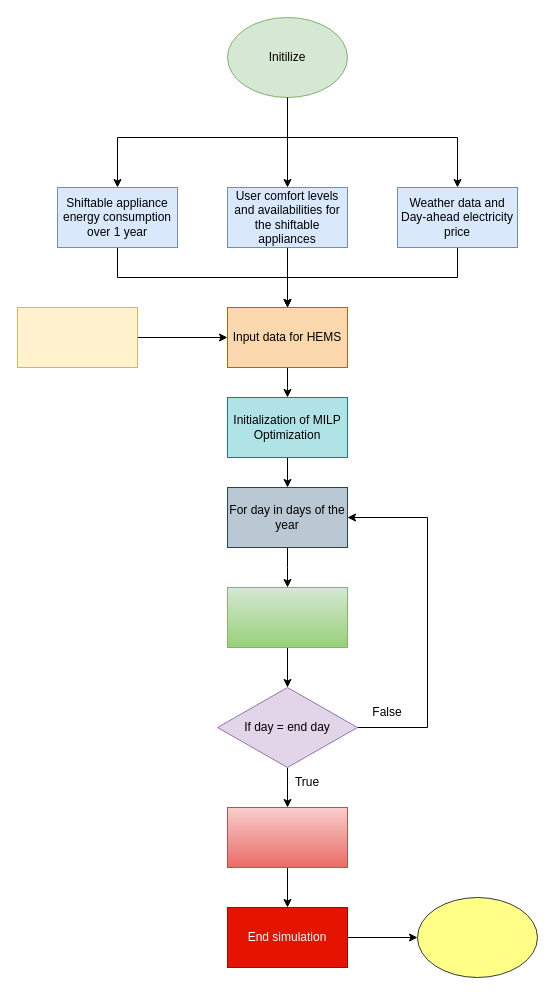
Some shapes in this 555 by 995 pixel diagram are drawn without their labels. Here are the shapes that lost their labels. From the top down, the centre of each, then its label:
the point at 77,337: PV generation data
the point at 287,617: Solve the MILP problem and optimize loads for 1 day
the point at 287,837: Save results for consumer
the point at 477,937: Send savings to ABS
